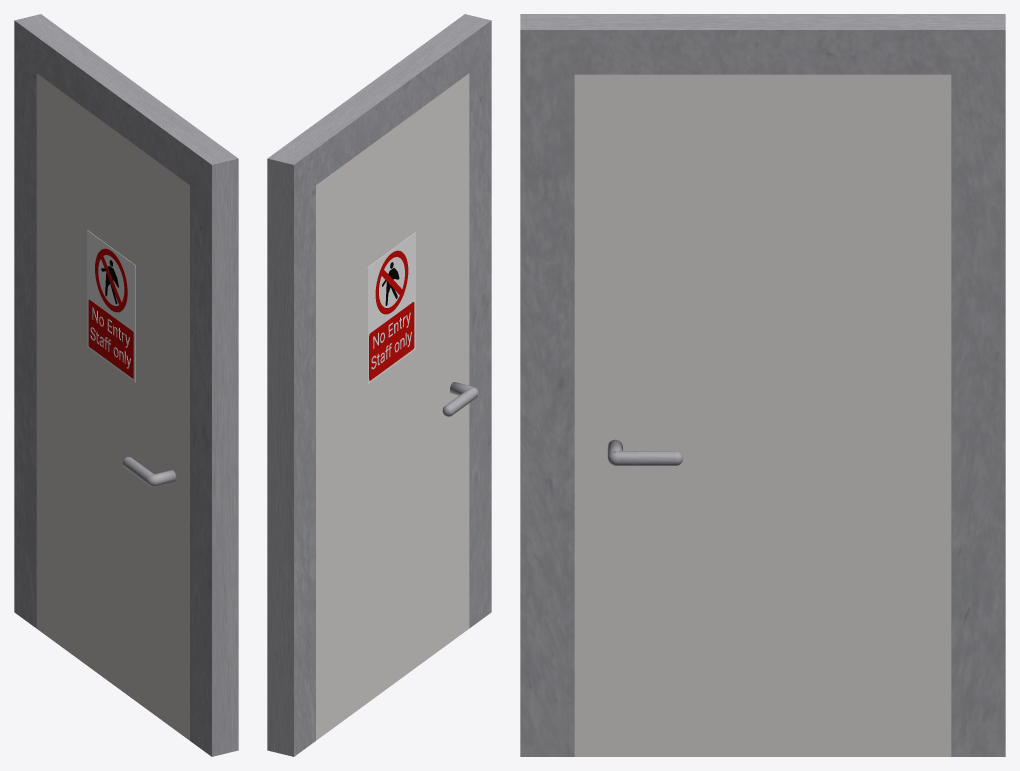
File: noEntranceDoor.fbx
3 renders of one model, left to right at view 1: azimuth 30°, elevation 25°; view 2: azimuth 150°, elevation 25°; view 3: azimuth 270°, elevation 25°, orthographic. The views are drawn at different scales.
Parts seen in each view (by area): view 1: gun wall.004, door.003; view 2: gun wall.004, door.003; view 3: gun wall.004, door.003.
Part boxes in pixels (<box>): gun wall.004: <box>36,73,189,740</box>; door.003: <box>14,14,238,756</box>; gun wall.004: <box>316,73,478,740</box>; door.003: <box>267,14,491,756</box>; gun wall.004: <box>574,74,951,756</box>; door.003: <box>520,14,1005,756</box>.
Size of the model in its own units: 29.25 by 213 by 129.
Materials: 5 (2 with a texture image).
